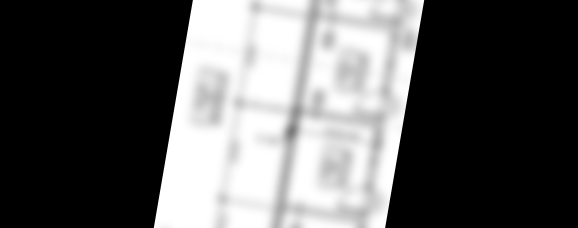door: (260, 0, 334, 228), (353, 84, 387, 121), (335, 180, 369, 216)
double door: (367, 0, 403, 25)
